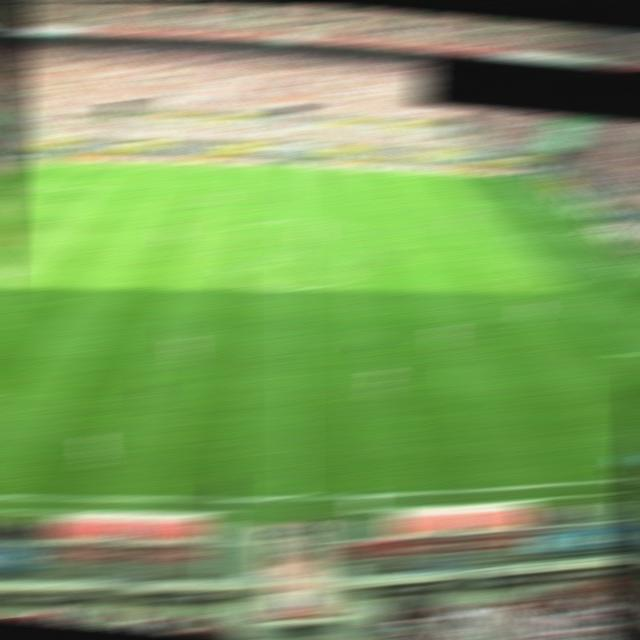bigarea_bottom_inner: (608, 344, 636, 360)
bigarea_top_inner: (477, 195, 504, 206), (74, 185, 98, 195)
bigarea_top_outter: (554, 198, 580, 210)
bottom_arc_area_intersection: (548, 276, 579, 293), (0, 270, 11, 283)
corner: (522, 172, 548, 185), (22, 161, 45, 166)
halfcircle_bottom: (280, 283, 306, 295)
halfcircle_top: (278, 214, 306, 225)
midline_bottom_intersection: (280, 488, 310, 506)
midline_top_intersection: (278, 161, 304, 172)
smallarea_bottom_inner: (628, 287, 640, 298)
smallarea_top_inner: (561, 226, 587, 237)
smallarea_top_outter: (587, 226, 614, 238)
top_arc_area_intersection: (41, 217, 68, 228), (507, 228, 532, 239)
